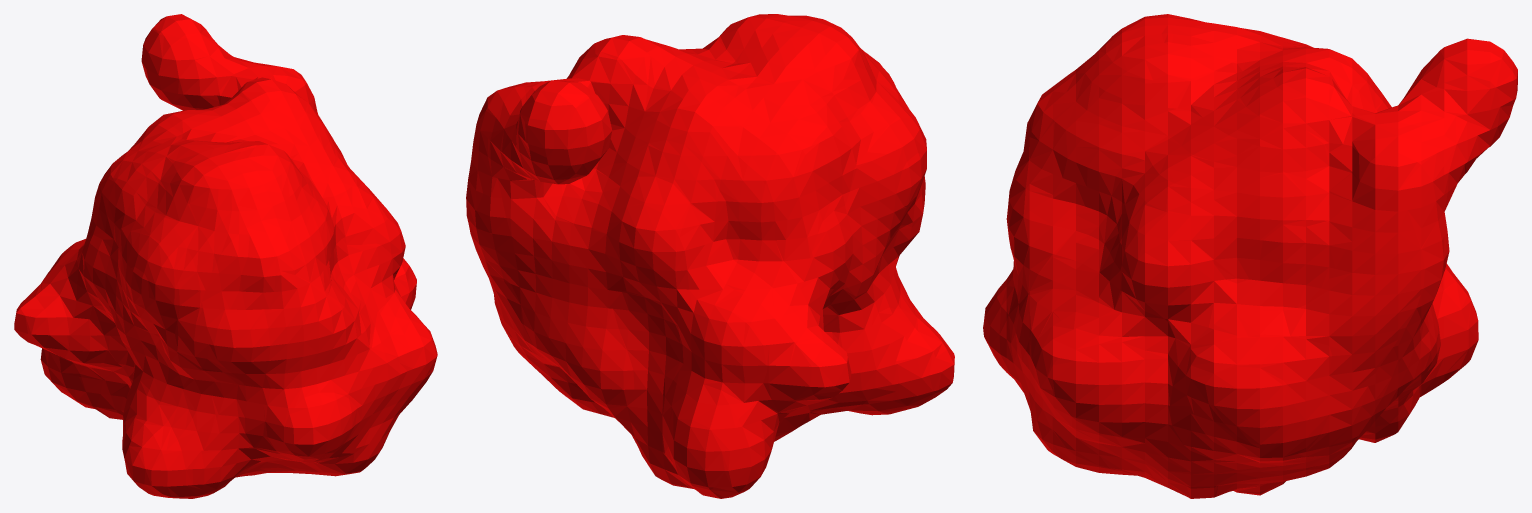
Rendered from kdsA_coarse.dae.
3 renders of one model, left to right at view 1: azimuth 30°, elevation 25°; view 2: azimuth 150°, elevation 25°; view 3: azimuth 270°, elevation 25°, orthographic. The views are drawn at different scales.
Visible parts, largest first — view 1: kdsA; view 2: kdsA; view 3: kdsA.
Part boxes in pixels (box(x1,y1,x2,y2)): kdsA: box(14, 14, 437, 498); kdsA: box(466, 14, 954, 498); kdsA: box(983, 14, 1517, 498).
Bounding box in the file's own units: 49.44 × 51.46 × 54.65.
